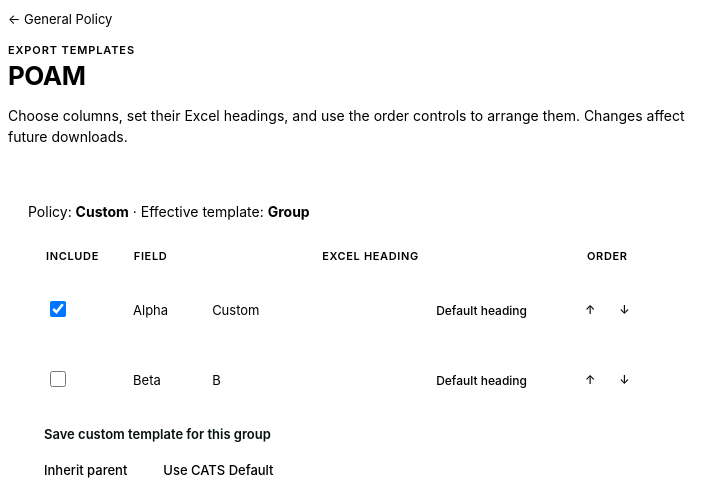
Test: preserves native repeated fields after reorder, heading reset and group inheritance
What coordinates should you click on to do the following:
click the button named "Move Alpha down"
I would click on:
 (624, 311)
Its box is [607,297,642,325].
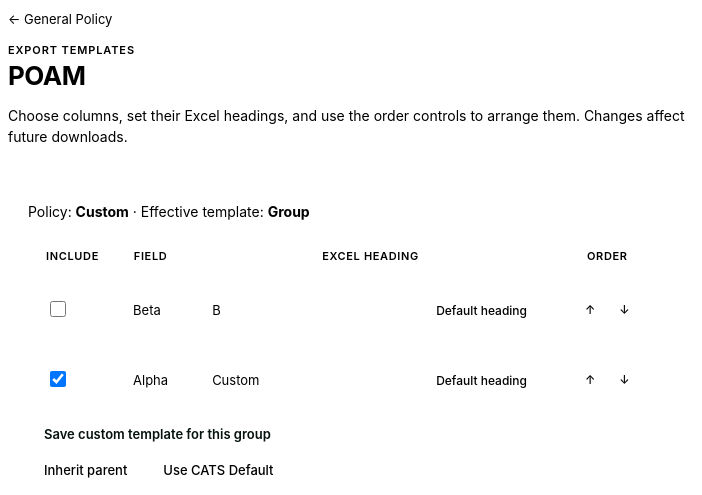
What coordinates should you click on to do the following:
click the button "Default heading" in the row of "Alpha"
I would click on:
 (482, 381)
Its box is [424,367,539,395].
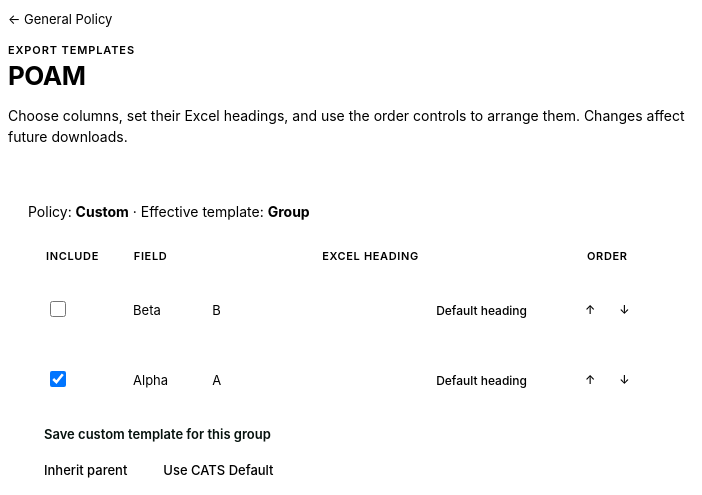
Expected: the field named "Excel heading for Alpha" next to "Alpha" holds "A", [202,357,424,405]
